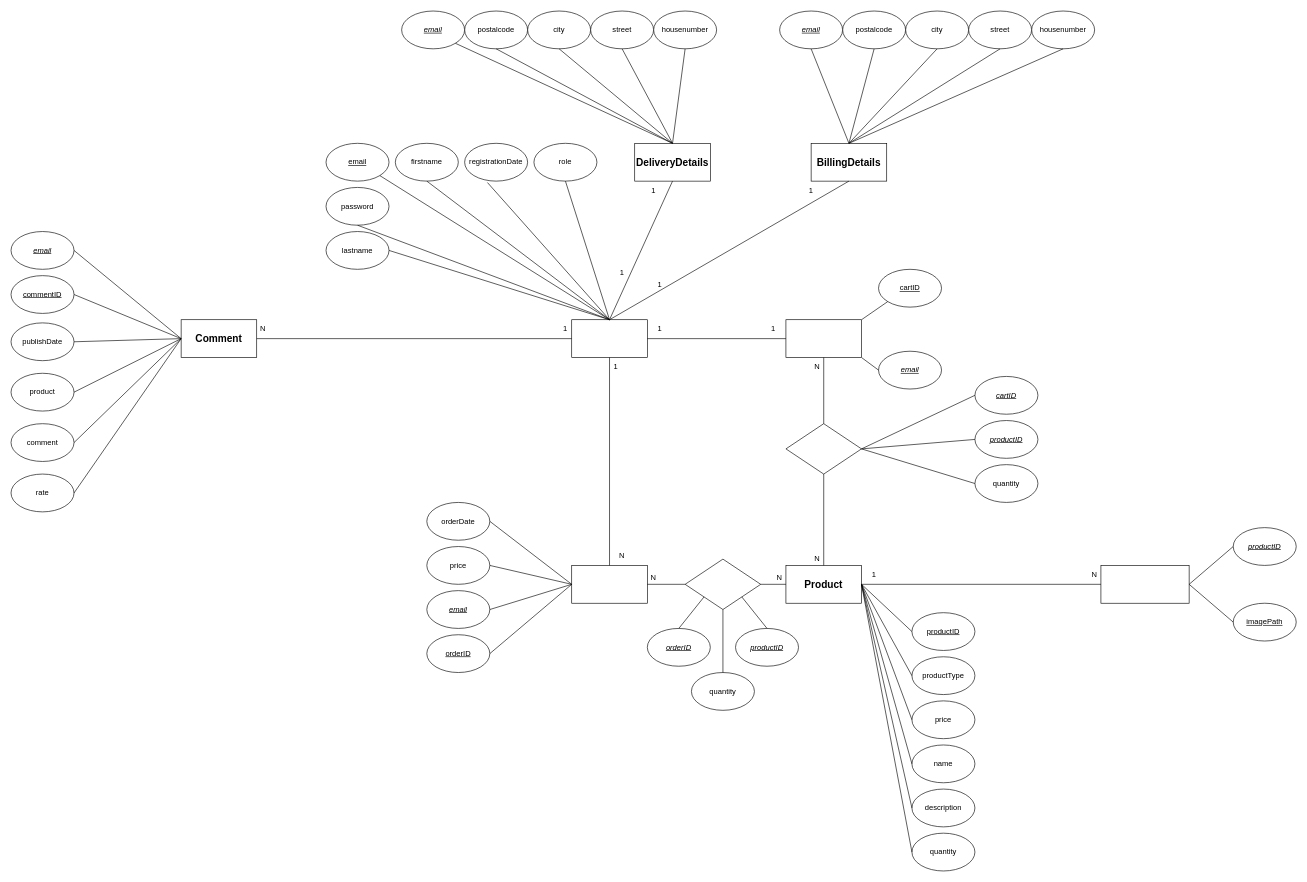
Image size: 1307x882. Some labels were removed from this diagram. The centre of each missing label's shape, as x and y in pixels:
Cart: the point at 823,338
Images: the point at 1144,584
itemsInCart: the point at 823,448
Order: the point at 609,584
orderedItems: the point at 722,584
User: the point at 609,338
